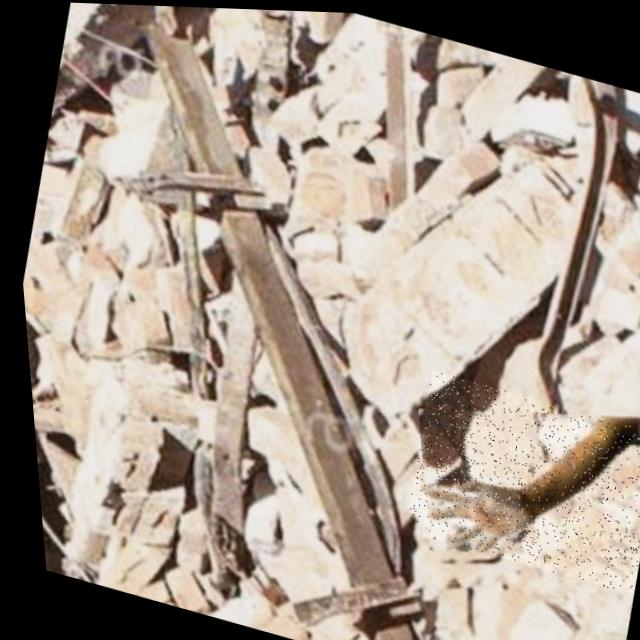Person in Rubble: (385, 365, 640, 590)
